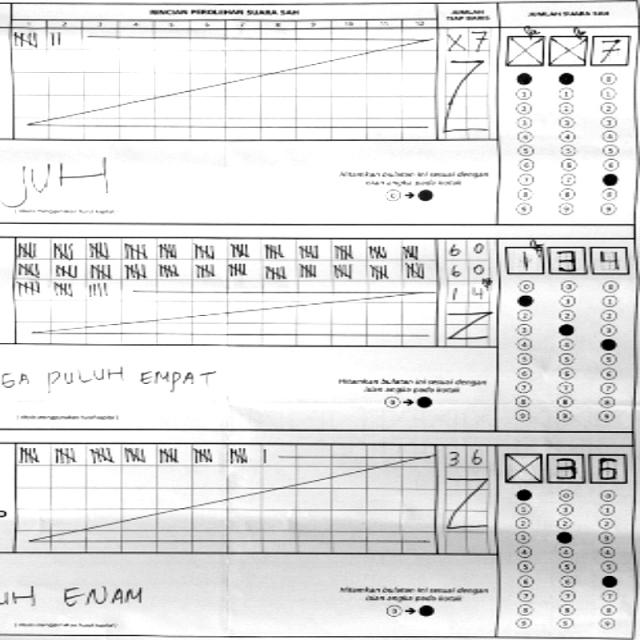Suara: (498, 236, 630, 278), (505, 27, 631, 70), (500, 446, 630, 486)
